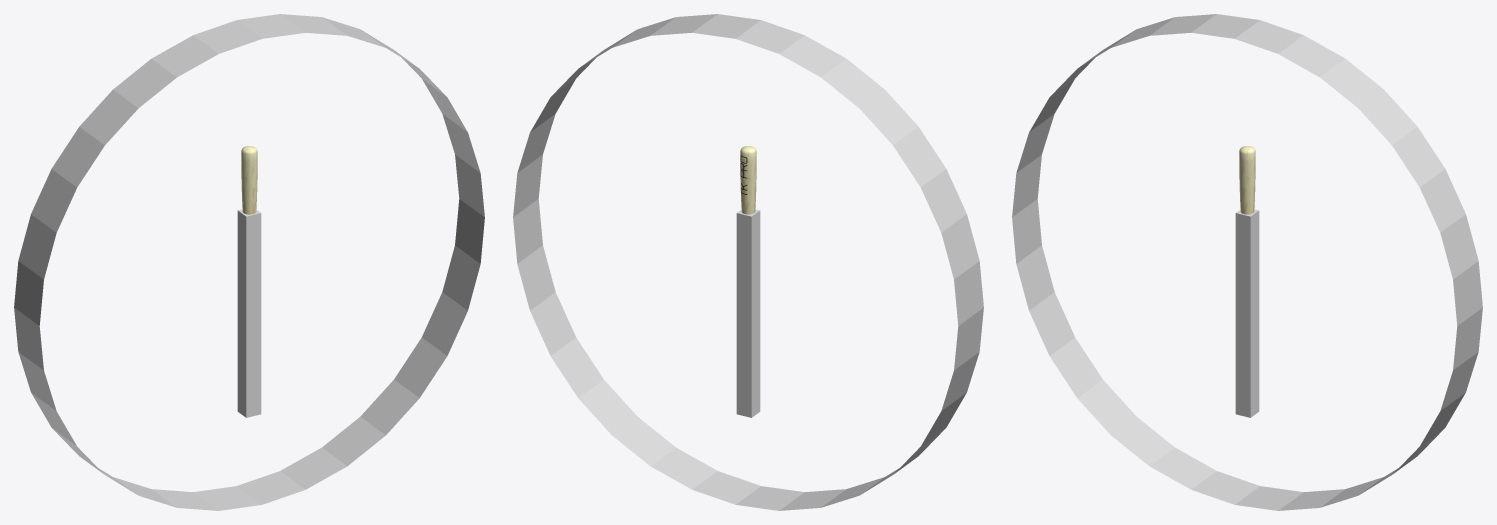
Rendered from BaseballBat.fbx.
3 views of the same model, side by side, from view 1: azimuth 30°, elevation 25°; view 2: azimuth 150°, elevation 25°; view 3: azimuth 330°, elevation 25° (orthographic).
Visible parts, largest first — view 1: Cylinder, BaseballBatDimensionsCube, BaseballBat; view 2: Cylinder, BaseballBatDimensionsCube, BaseballBat; view 3: Cylinder, BaseballBatDimensionsCube, BaseballBat.
Part boxes in pixels (<box>): Cylinder: <box>14,14,484,510</box>; BaseballBatDimensionsCube: <box>237,209,261,417</box>; BaseballBat: <box>241,146,257,214</box>; Cylinder: <box>513,14,983,510</box>; BaseballBatDimensionsCube: <box>736,209,760,417</box>; BaseballBat: <box>740,146,756,214</box>; Cylinder: <box>1012,14,1482,510</box>; BaseballBatDimensionsCube: <box>1235,209,1259,417</box>; BaseballBat: <box>1239,146,1255,214</box>.
Bounding box in the file's own units: 200 × 200 × 20.
